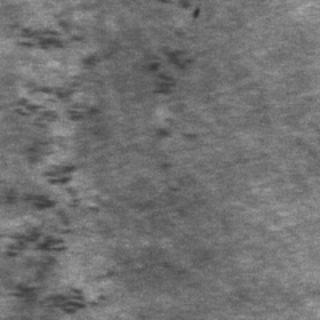rolled pit: (4, 8, 100, 310), (140, 42, 198, 138)
